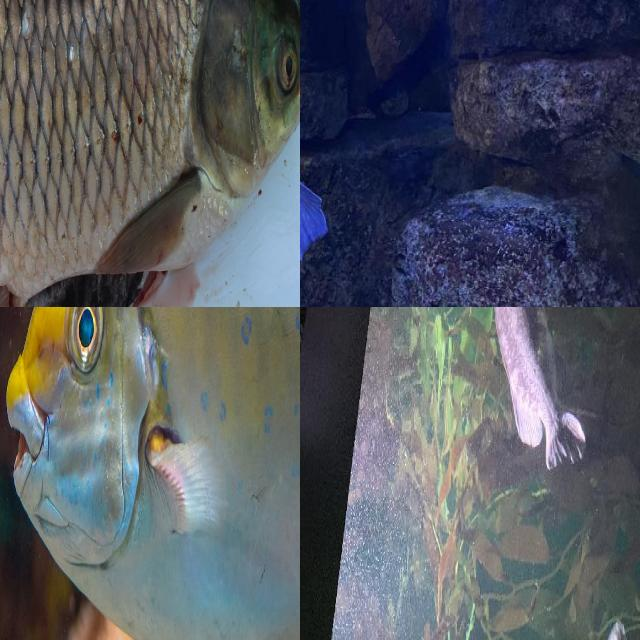fish: (0, 307, 300, 640), (0, 0, 300, 307), (490, 307, 586, 475)
